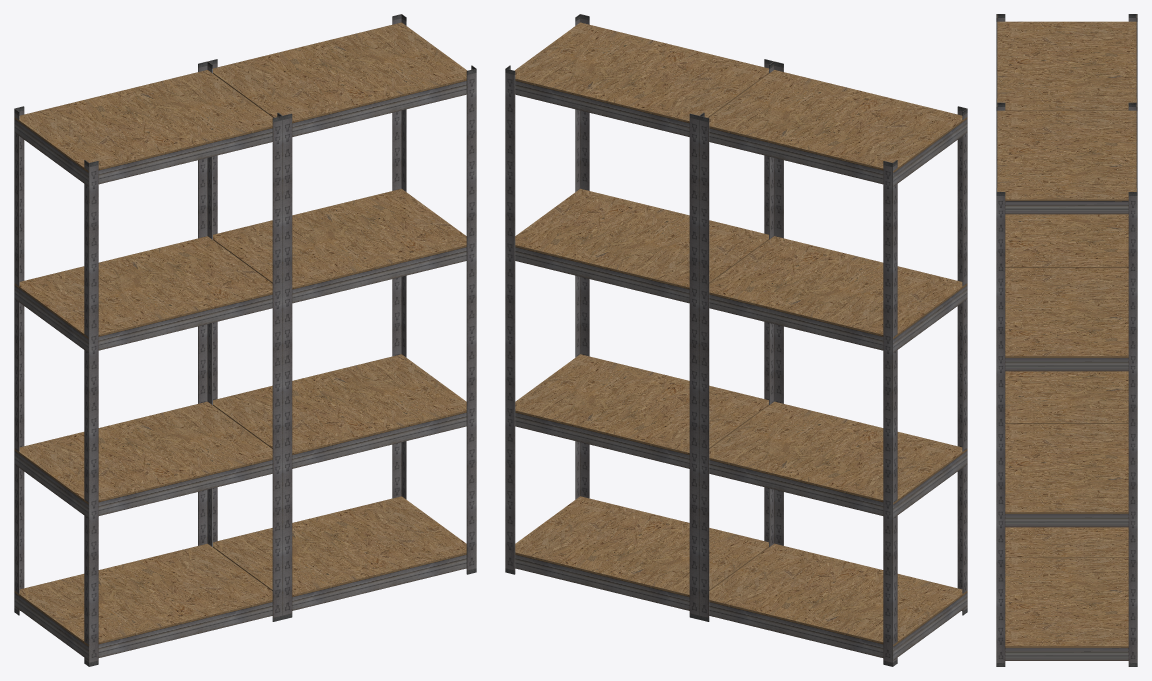
File: ms_metal_shelf_large.fbx
3 renders of one model, left to right at view 1: azimuth 30°, elevation 25°; view 2: azimuth 150°, elevation 25°; view 3: azimuth 270°, elevation 25°, orthographic. The views are drawn at different scales.
Visible parts, largest first — view 1: ms_metal_shelf_large; view 2: ms_metal_shelf_large; view 3: ms_metal_shelf_large.
Part boxes in pixels (<box>): ms_metal_shelf_large: <box>14,14,476,666</box>; ms_metal_shelf_large: <box>505,14,967,666</box>; ms_metal_shelf_large: <box>996,14,1137,666</box>.
Size of the model in its own units: 157 by 195 by 52.73.
